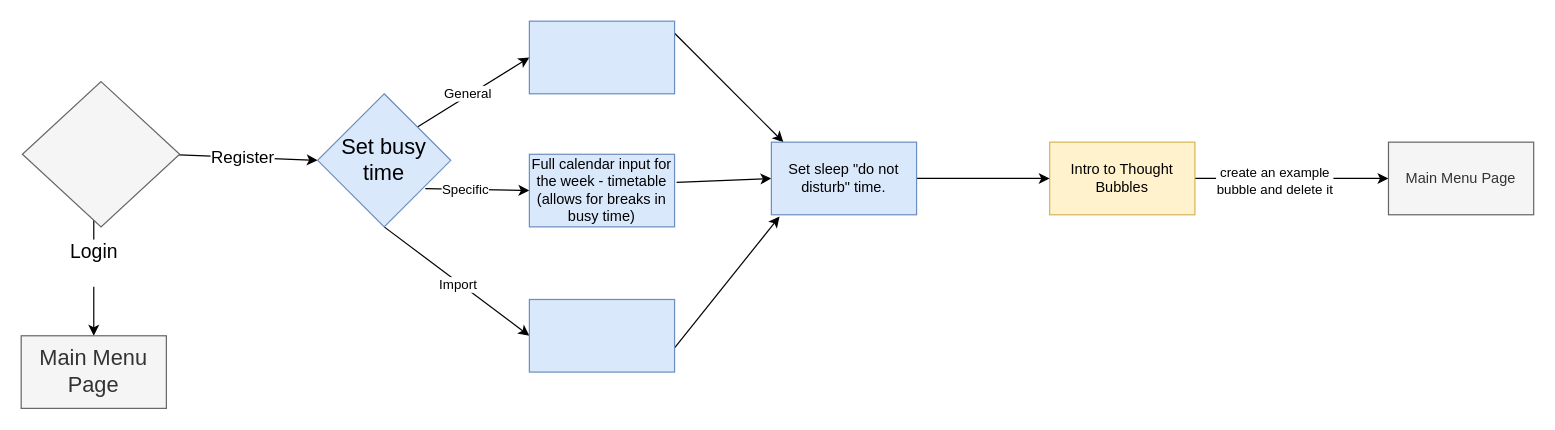
Some shapes in this 1555 by 430 pixel diagram are drawn without their labels. Each missing label, with the centre of its shape:
"days of week, general time." goes at [601,57].
"import google calendar or similar" goes at [601,335].
"Login/Sign Up screen" goes at [100,153].
